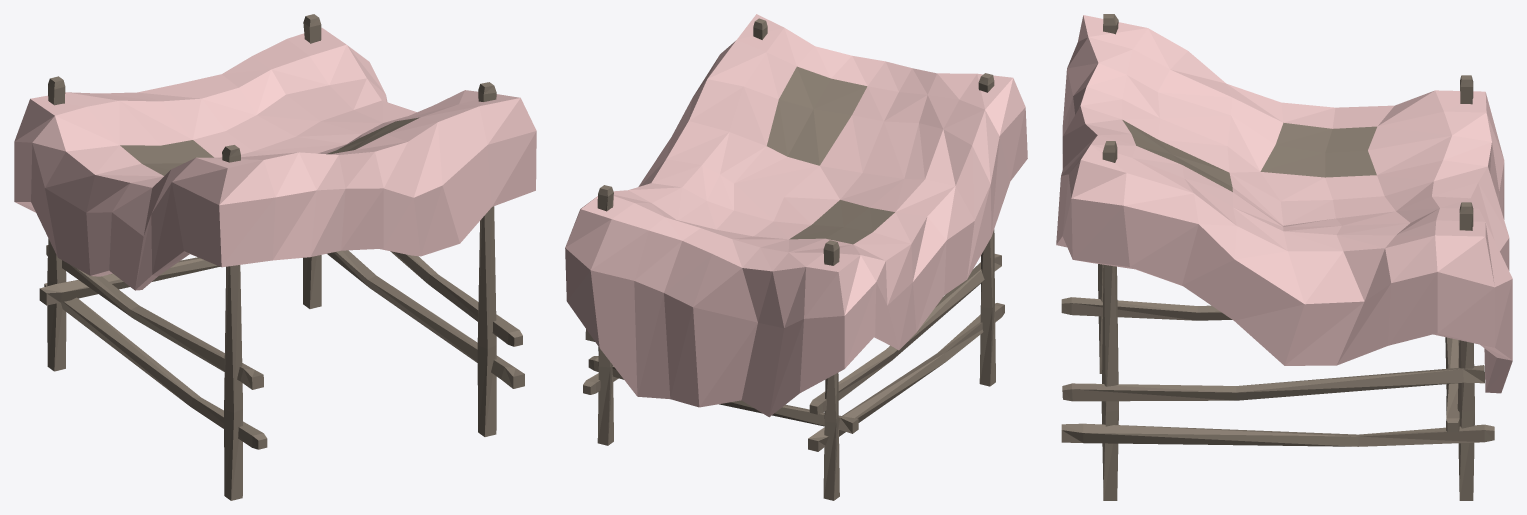
The model's file is SM_Bld_Tent_02.glb.
3 renders of one model, left to right at view 1: azimuth 30°, elevation 25°; view 2: azimuth 150°, elevation 25°; view 3: azimuth 270°, elevation 25°, orthographic. The views are drawn at different scales.
Visible parts, largest first — view 1: SM_Bld_Tent_02_00; view 2: SM_Bld_Tent_02_00; view 3: SM_Bld_Tent_02_00.
Boxes of the visible parts, bbox=[...] form: SM_Bld_Tent_02_00: bbox=[14, 14, 536, 500]; SM_Bld_Tent_02_00: bbox=[565, 14, 1027, 500]; SM_Bld_Tent_02_00: bbox=[1056, 14, 1512, 500].
Bounding box in the file's own units: 2.79 × 2.69 × 3.13.
1 material, 1 textured.
